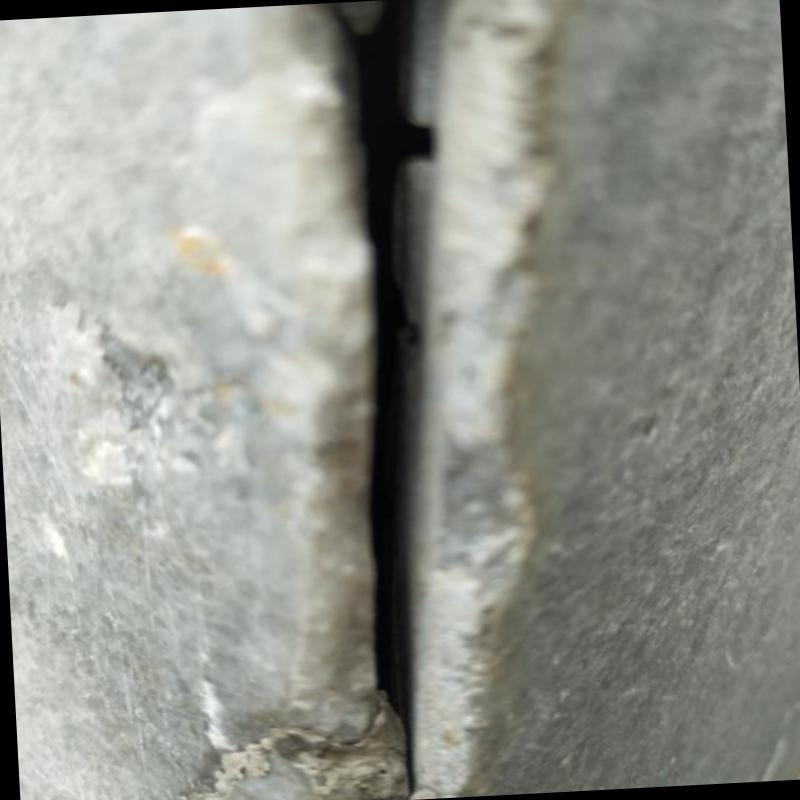pothole: (333, 0, 434, 787)
